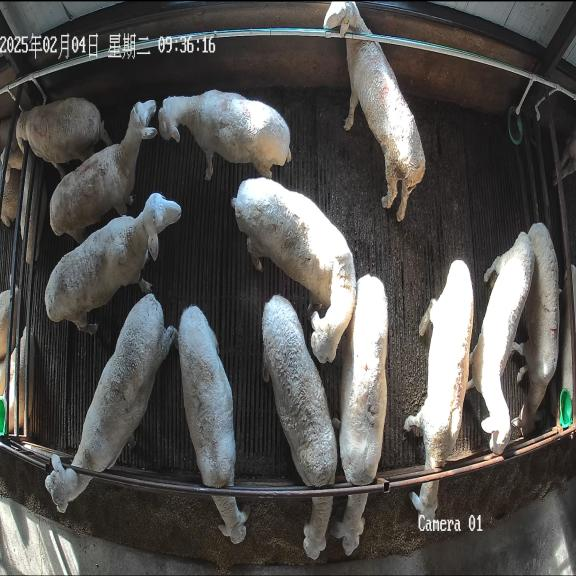drinking: (16, 98, 112, 179)
eating: (45, 294, 177, 513), (262, 295, 341, 560), (404, 260, 473, 522), (177, 306, 250, 543), (330, 274, 388, 555)
stand: (232, 178, 356, 362), (323, 1, 425, 221), (45, 193, 181, 333), (50, 100, 158, 243), (469, 232, 534, 453), (159, 90, 291, 180), (513, 223, 560, 434)
